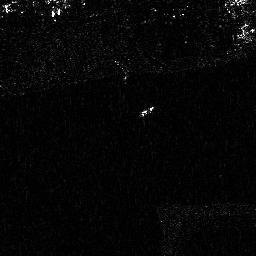ship: (139, 106, 157, 116)
